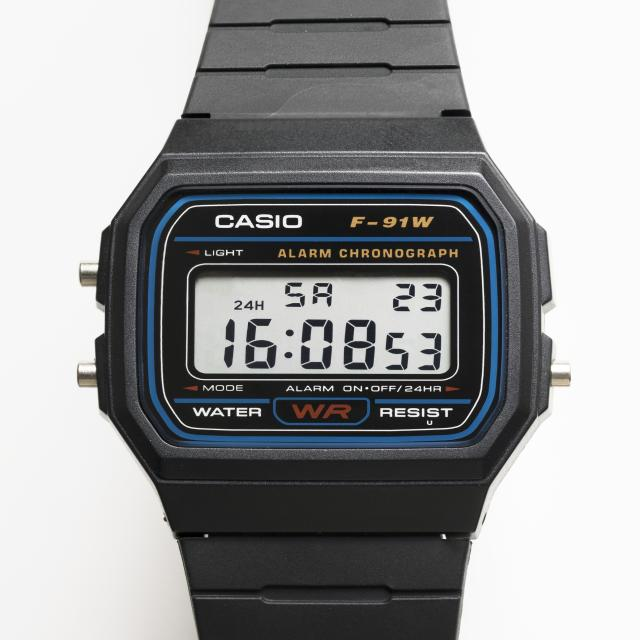watch: (103, 157, 538, 481)
